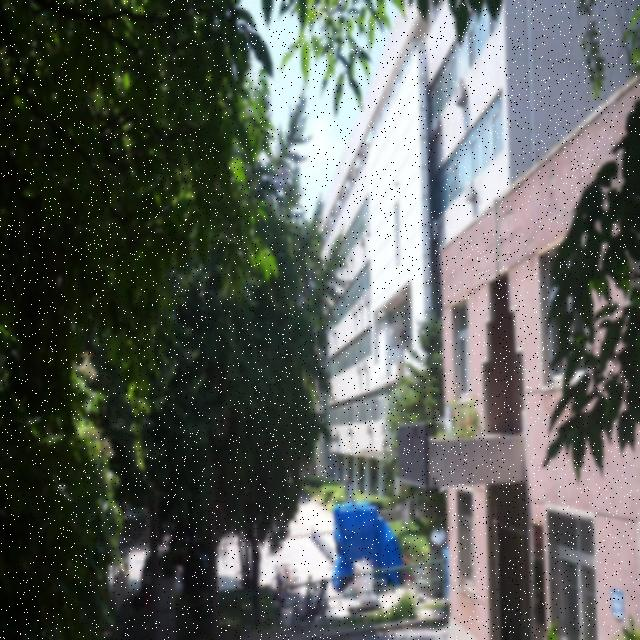UAV: (394, 182, 400, 188)
